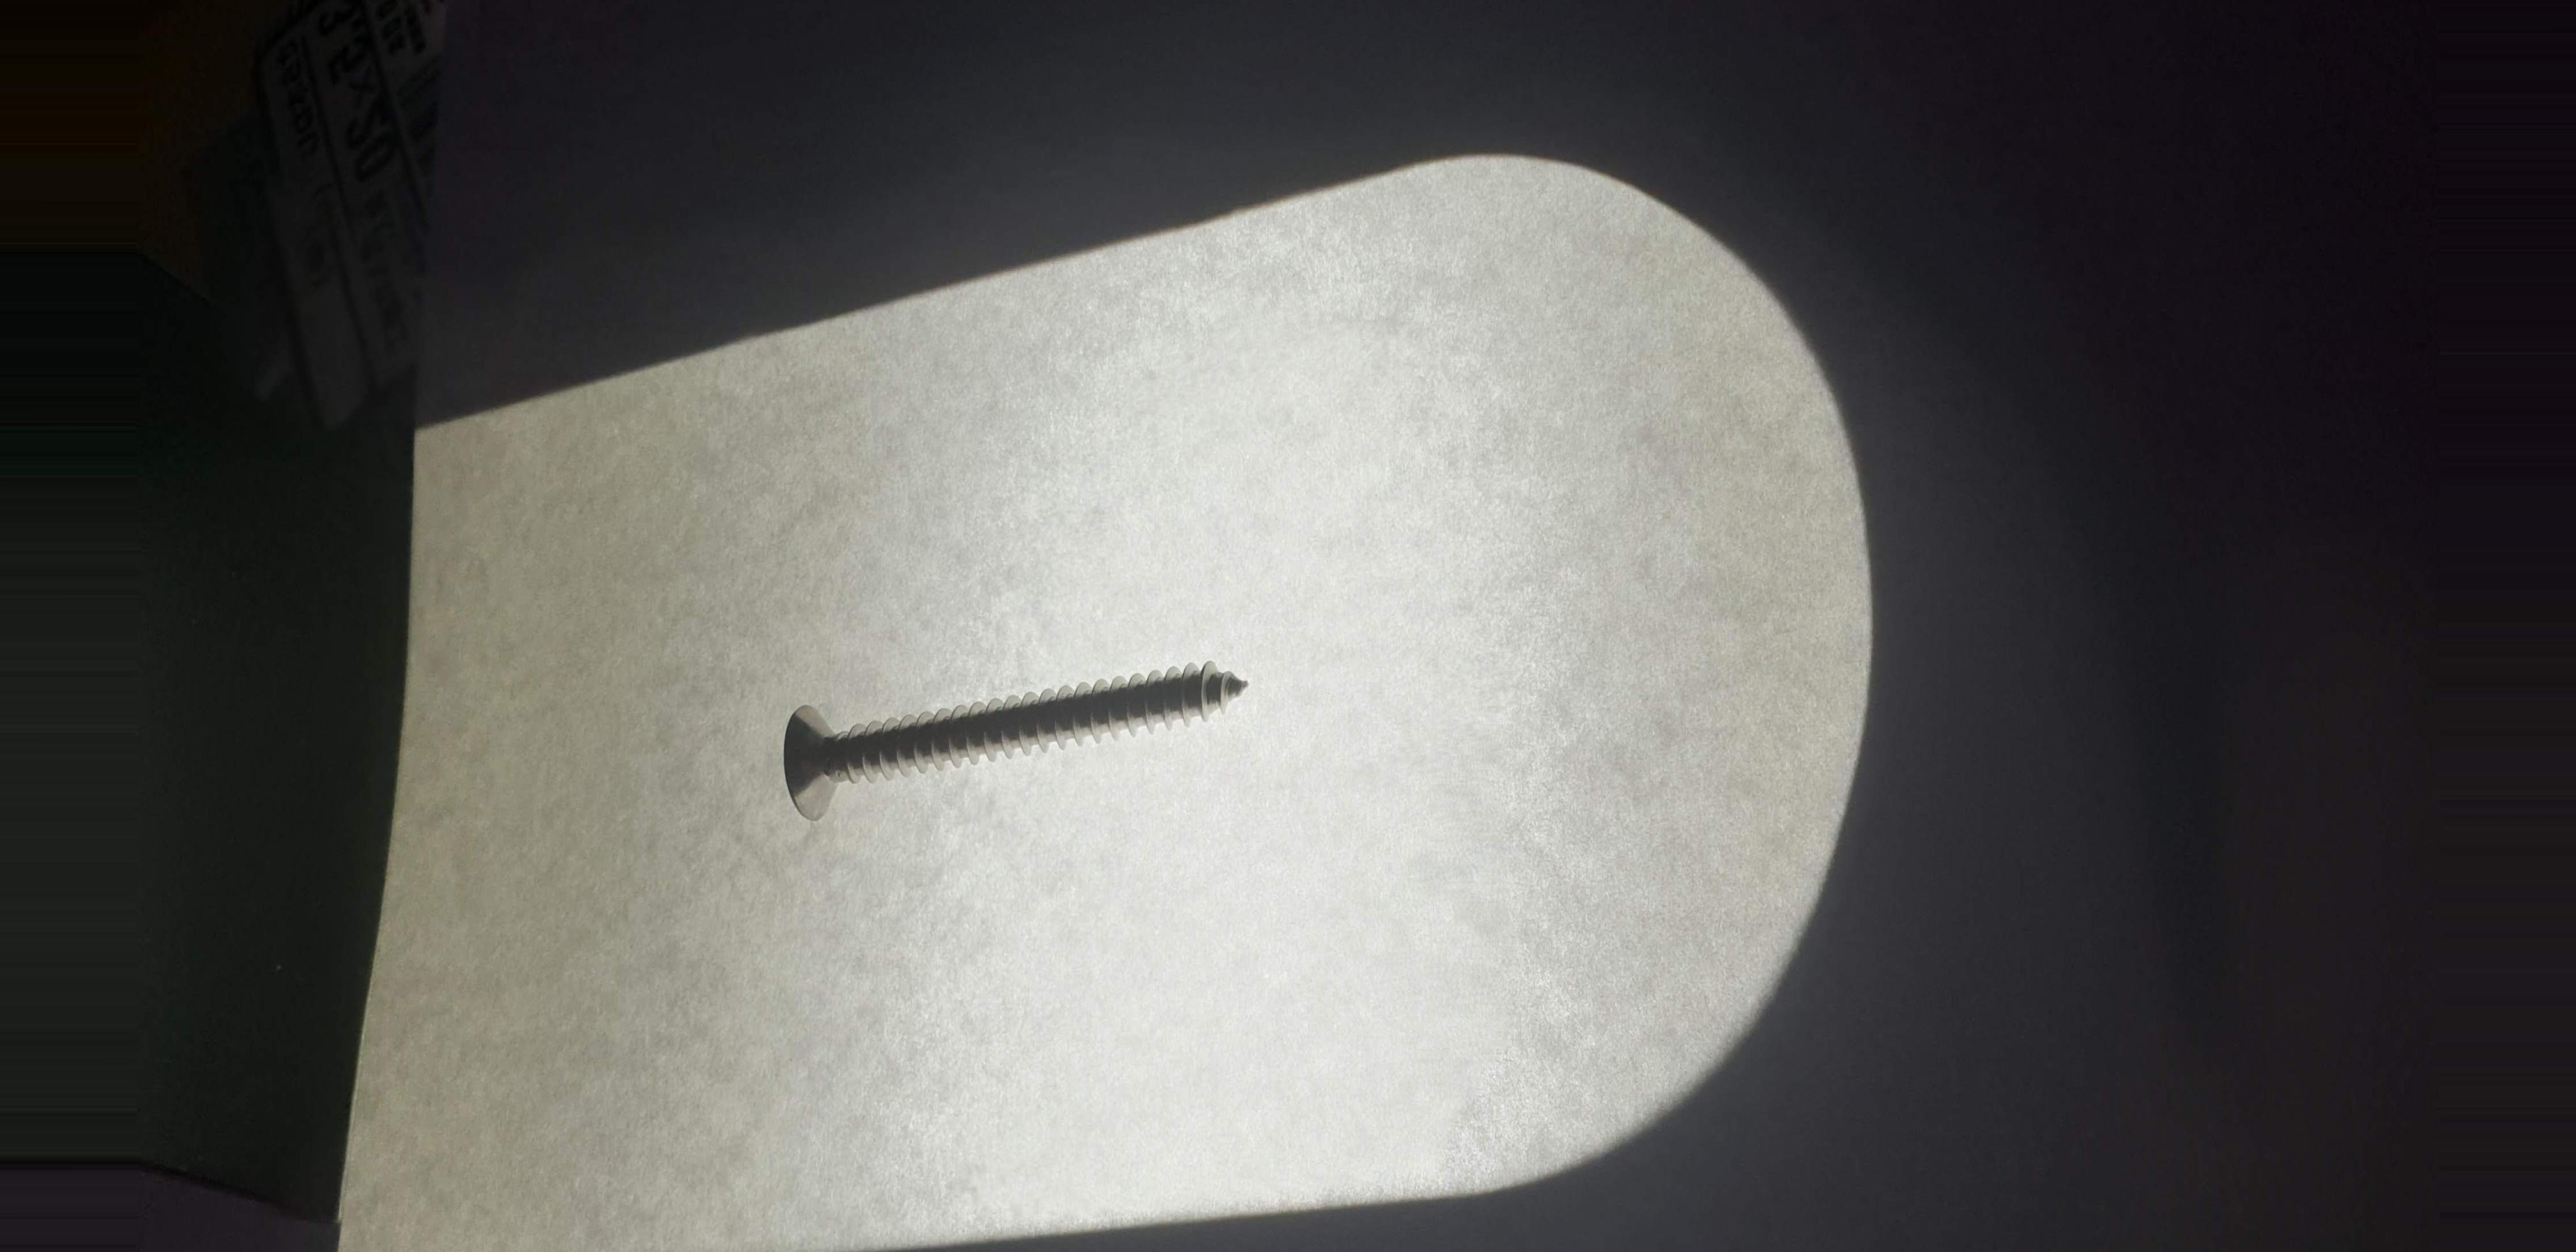S001: (757, 644, 1273, 843)
